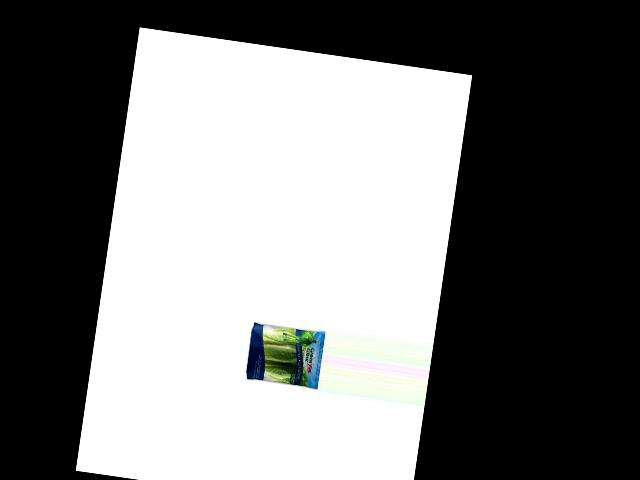lettuce: (241, 319, 322, 389)
